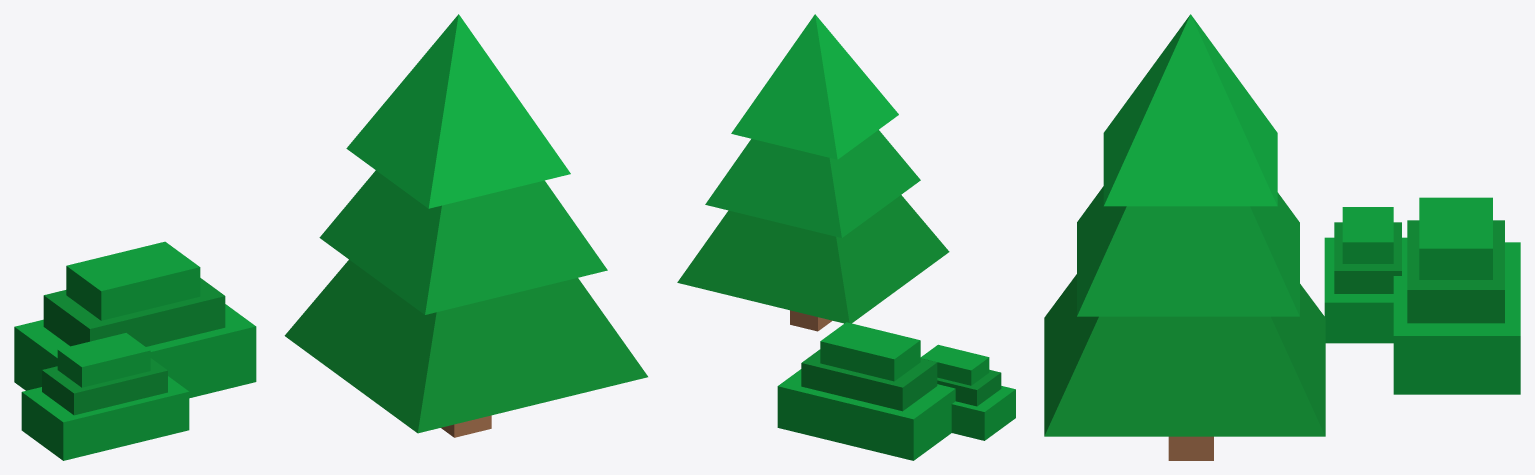
File: Box_Tree_Bush.fbx
3 renders of one model, left to right at view 1: azimuth 30°, elevation 25°; view 2: azimuth 150°, elevation 25°; view 3: azimuth 270°, elevation 25°, orthographic. The views are drawn at different scales.
Visible parts, largest first — view 1: node_id295 (×3), node_id297 (×3), node_id301 (×3); view 2: node_id295 (×4), node_id297 (×3), node_id301 (×3); view 3: node_id295 (×4), node_id297 (×3), node_id301 (×3).
Part boxes in pixels (box(x1,y1,x2,y2)): node_id295 (×3): box(284, 14, 647, 433); node_id297 (×3): box(14, 241, 256, 398); node_id301 (×3): box(21, 333, 189, 460); node_id295 (×4): box(677, 14, 949, 331); node_id297 (×3): box(777, 322, 955, 460); node_id301 (×3): box(920, 344, 1015, 440); node_id295 (×4): box(1044, 14, 1325, 460); node_id297 (×3): box(1393, 197, 1520, 394); node_id301 (×3): box(1324, 207, 1407, 343).
Size of the model in its own units: 0.5698 by 0.4967 by 0.4926.
Materials: 10 (10 with a texture image).
